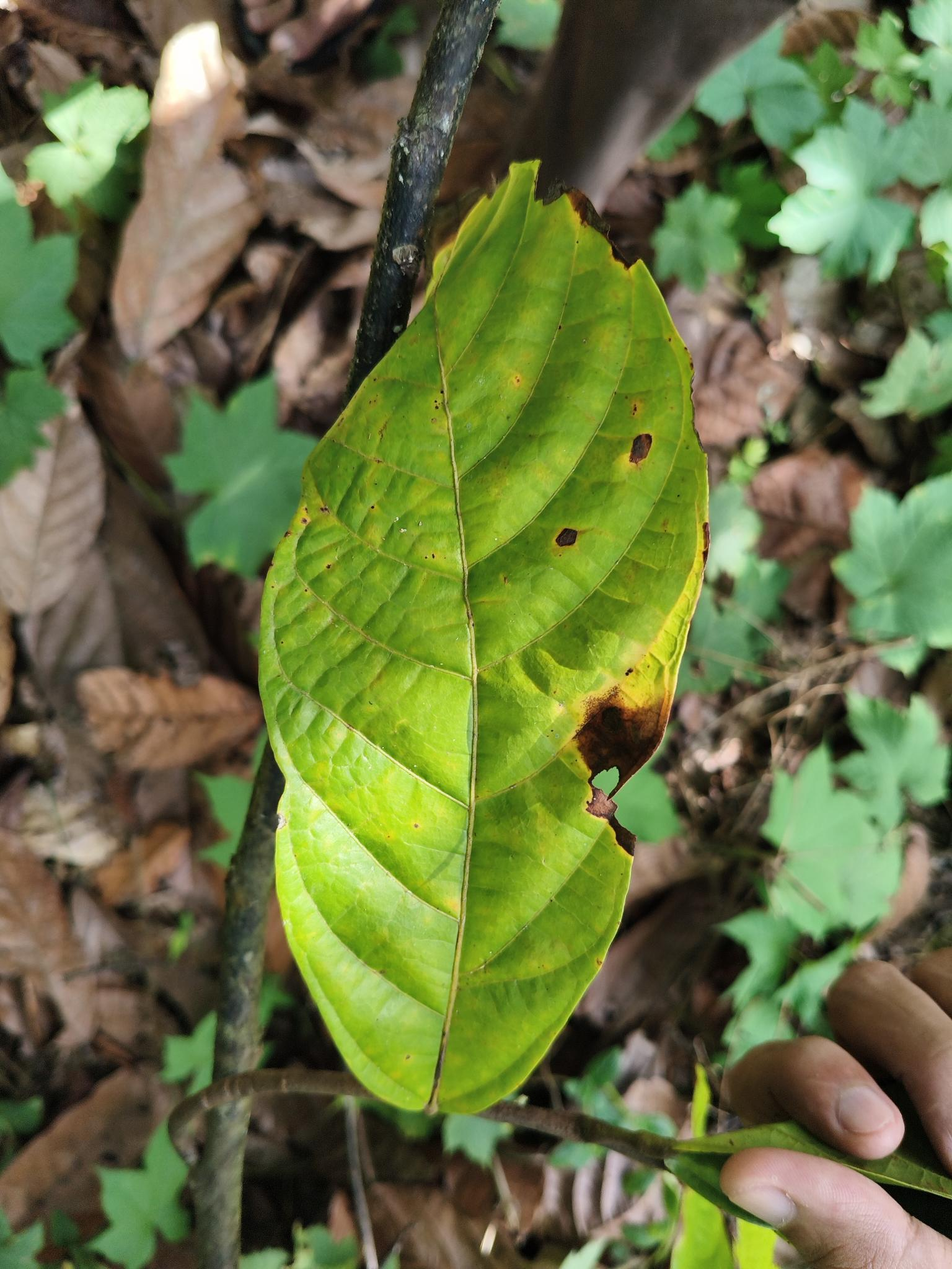Fosforo: (250, 157, 712, 1118)
